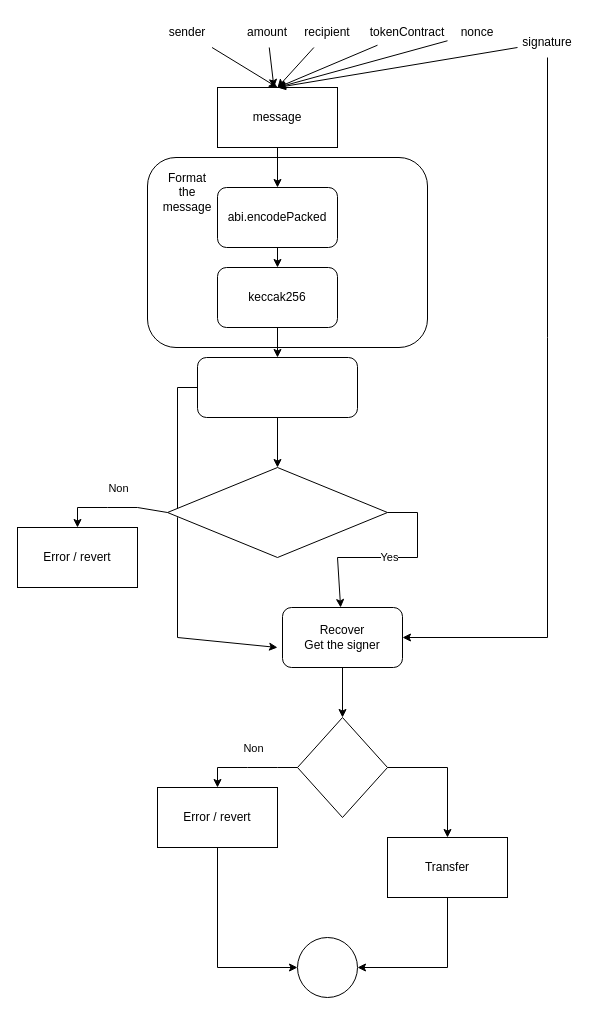
Image size: 595x1015. Some labels were removed from this diagram. Here are the shapes that lost their labels. From the top down, the centre of each, then its label:
At point 277,387: "toEthSignedMessageHash".
At point 277,512: "Check if the transaction has already been executed".
At point 342,767: "signer == sender ?".
At point 327,967: "FIN".
